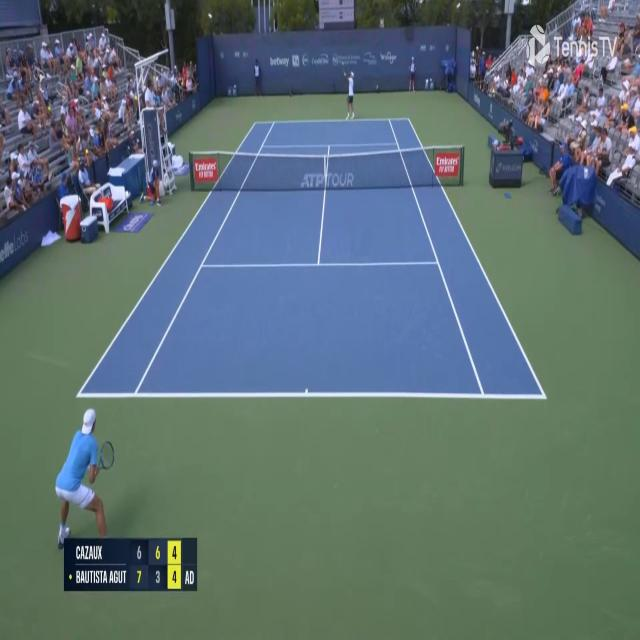tennis-player: (53, 403, 118, 554), (344, 68, 356, 122)
